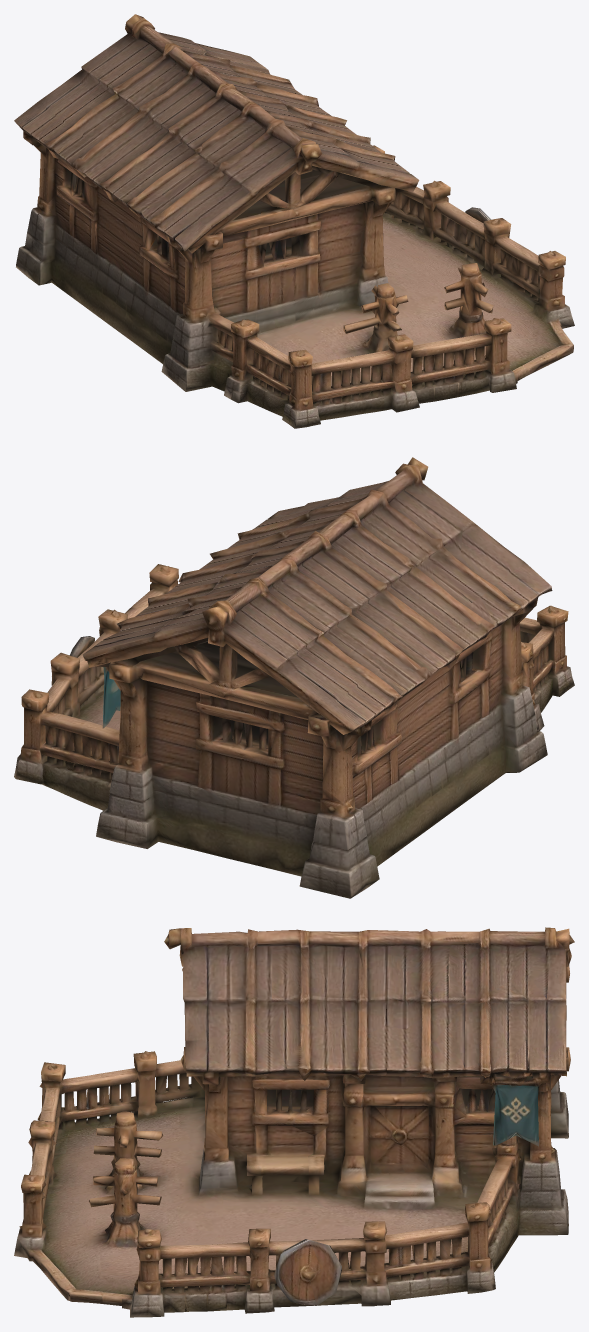
The model's file is kisla-sv5.glb.
3 renders of one model, top to bottom at view 1: azimuth 30°, elevation 25°; view 2: azimuth 150°, elevation 25°; view 3: azimuth 270°, elevation 25°, orthographic. The views are drawn at different scales.
Visible parts, largest first — view 1: tripo_node_7a7c421a-fccd-4769-b3f2-a0c8496807ad; view 2: tripo_node_7a7c421a-fccd-4769-b3f2-a0c8496807ad; view 3: tripo_node_7a7c421a-fccd-4769-b3f2-a0c8496807ad.
Part boxes in pixels (<box>): tripo_node_7a7c421a-fccd-4769-b3f2-a0c8496807ad: <box>14,14,574,428</box>; tripo_node_7a7c421a-fccd-4769-b3f2-a0c8496807ad: <box>14,457,574,898</box>; tripo_node_7a7c421a-fccd-4769-b3f2-a0c8496807ad: <box>14,927,574,1317</box>.
Size of the model in its own units: 0.8547 by 0.5042 by 1.
Materials: 1 (1 with a texture image).
